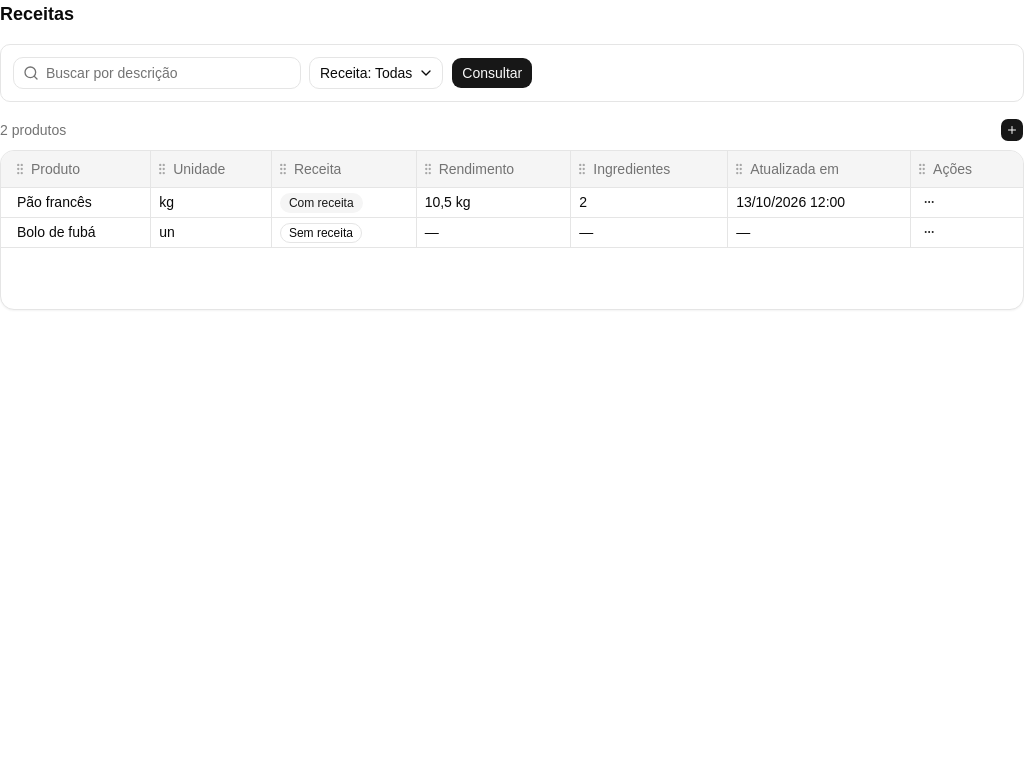
Test case: RecipesListPage › starts a new recipe from the + button, choosing among the products without one
This screenshot has width=1024, height=768.
Step 1. Click the button named "Nova receita" → (1012, 130), box [1000,118,1023,142]
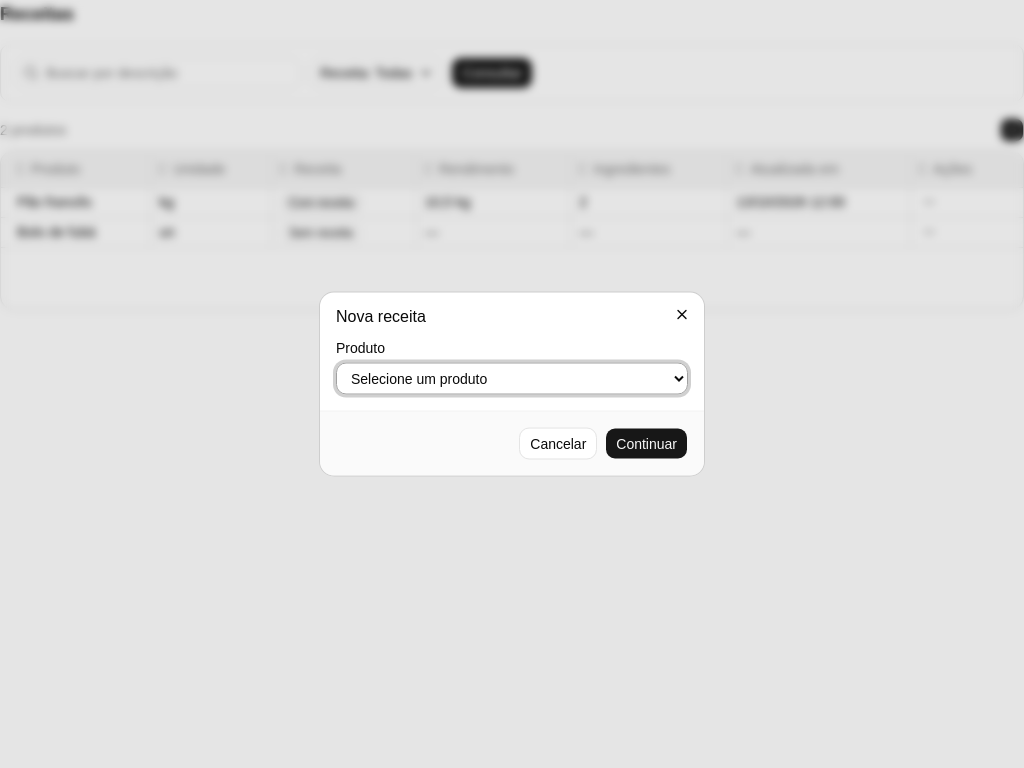
Step 2. Select "Bolo de fubá" in the dropdown labelled "Produto" → (512, 378), box [336,362,688,394]
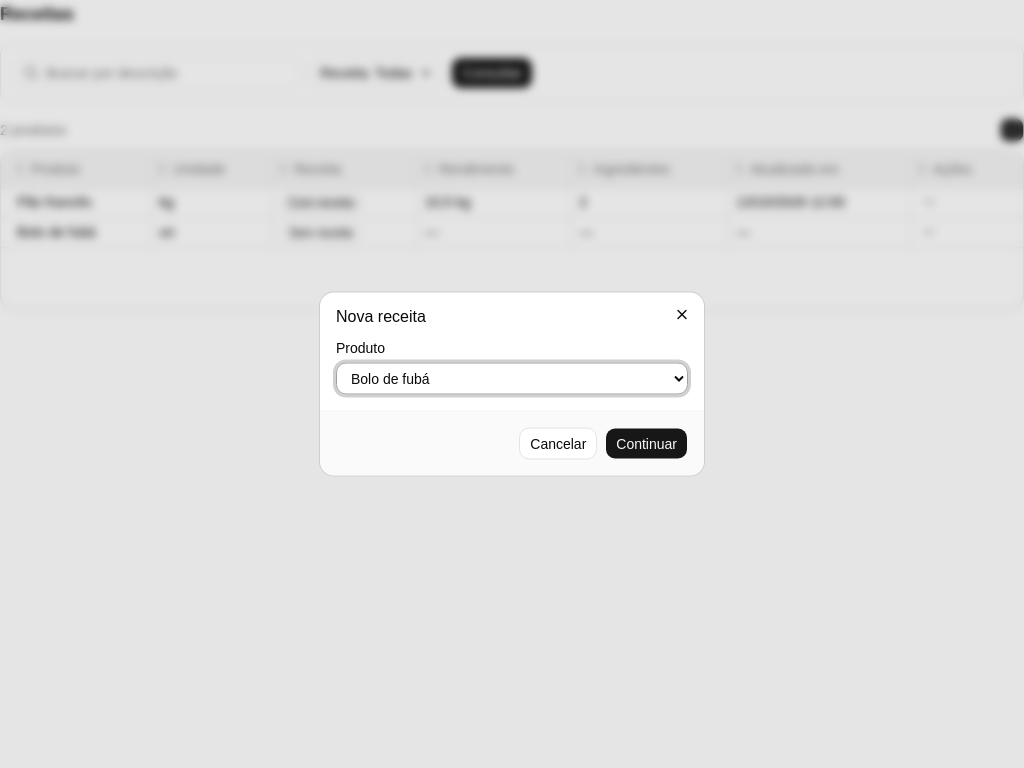
Step 3. Click the button "Continuar" → (647, 444), box [605,428,688,460]
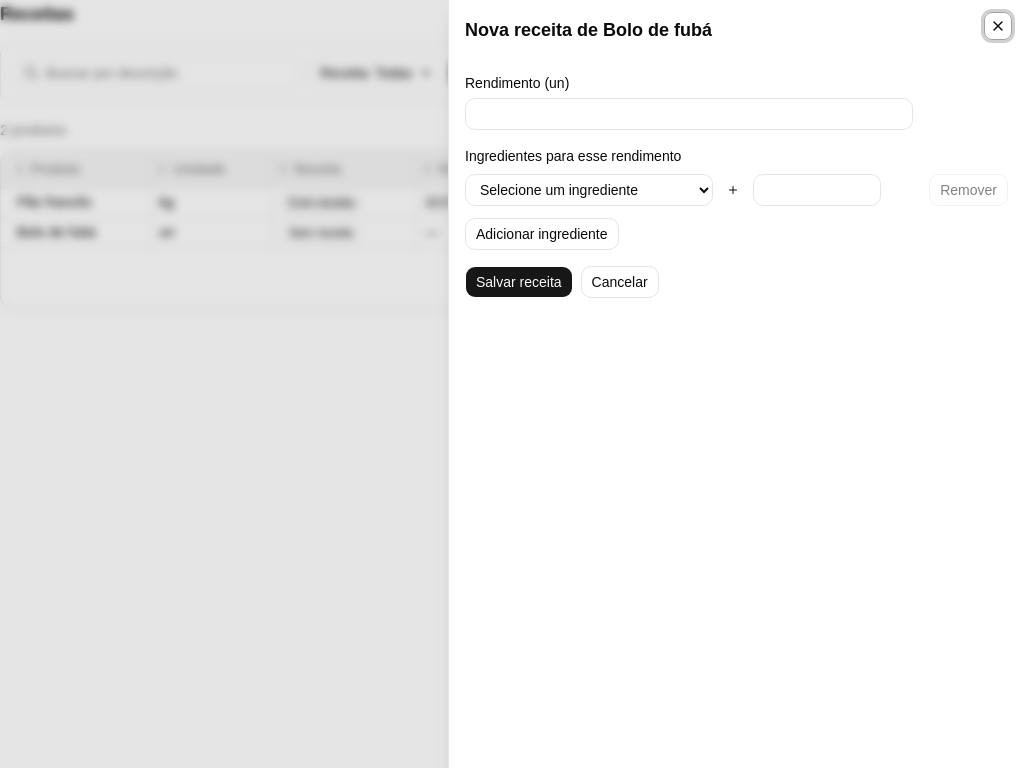
Expected: the heading "Nova receita de Bolo de fubá" is shown, [465,20,712,40]
Expected: the field labelled "Rendimento (un)" is empty, [465,98,913,130]
